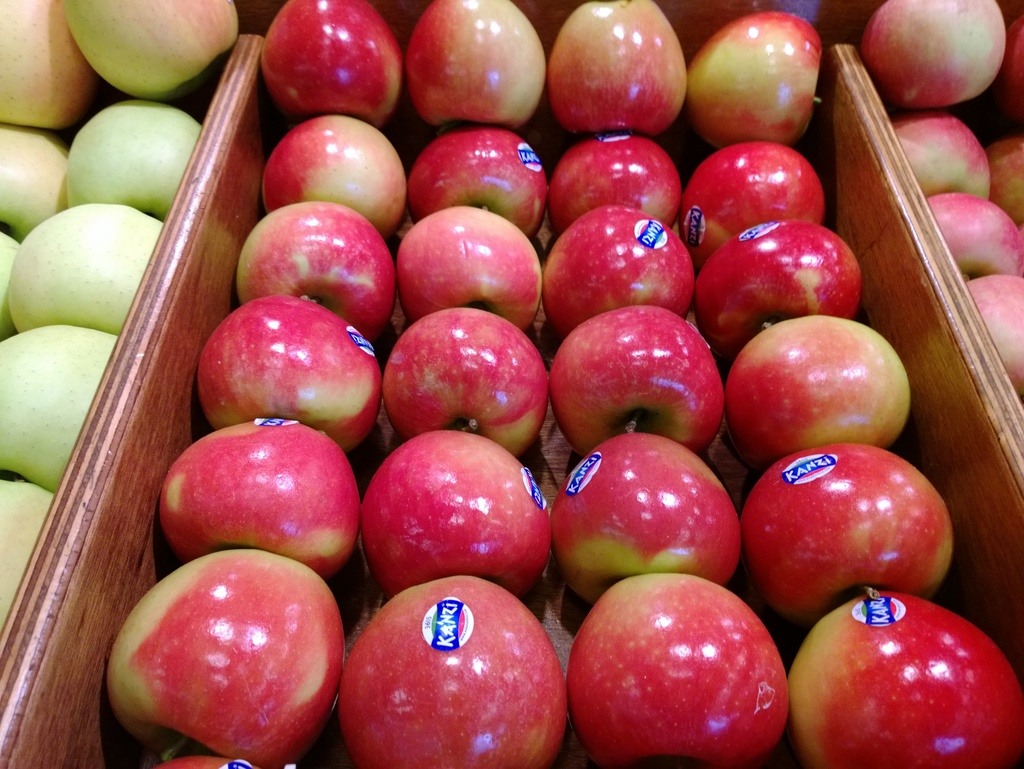Apple: (102, 0, 1023, 768), (0, 0, 238, 633), (854, 0, 1023, 397), (100, 550, 344, 765), (564, 571, 787, 768)
